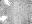person: (4, 1, 9, 7), (1, 16, 5, 19)
